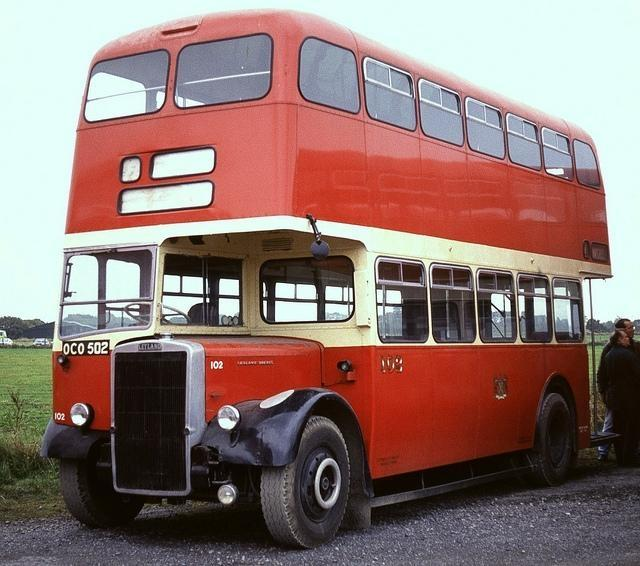bus: (40, 9, 616, 551)
car: (33, 338, 50, 346)
